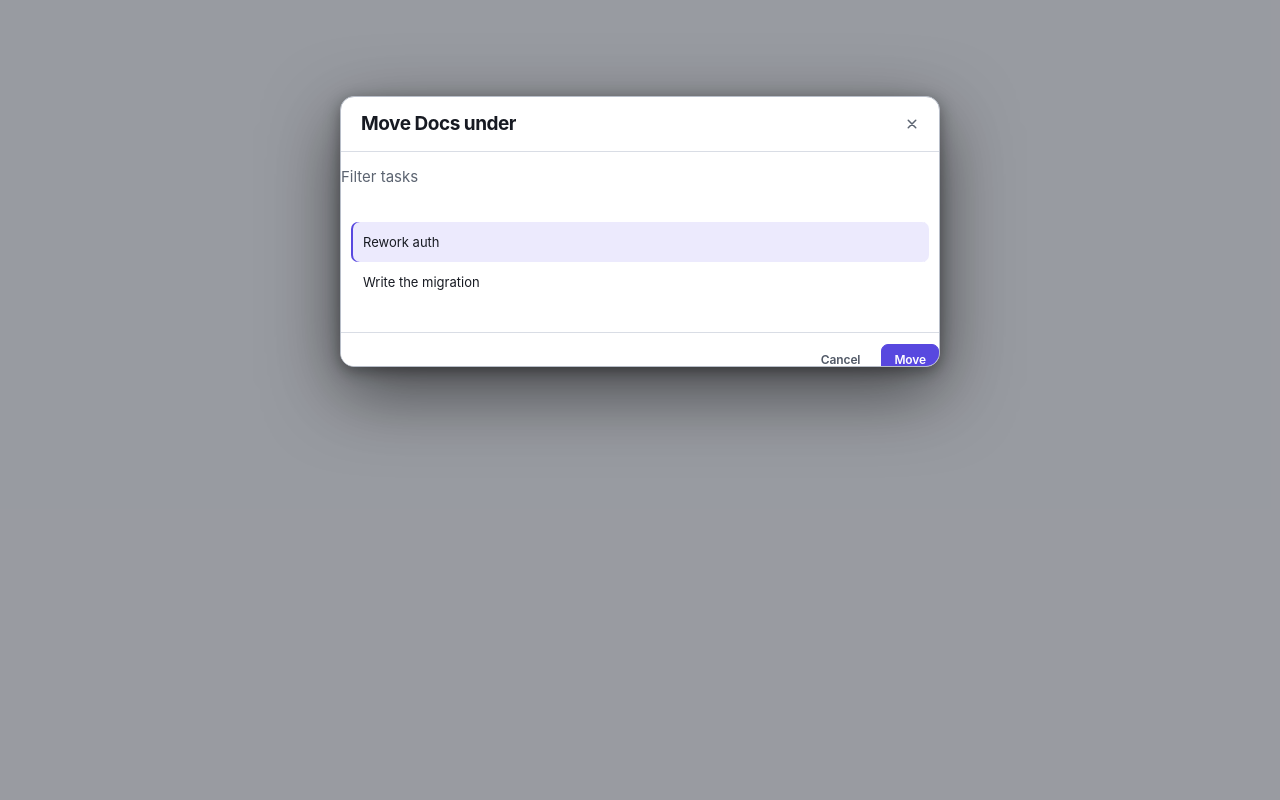
Test: Move Under… › narrows the list as it is typed into
Step 1. Type "migr" into the field labelled "Filter" → (640, 176), box [341,152,939,200]
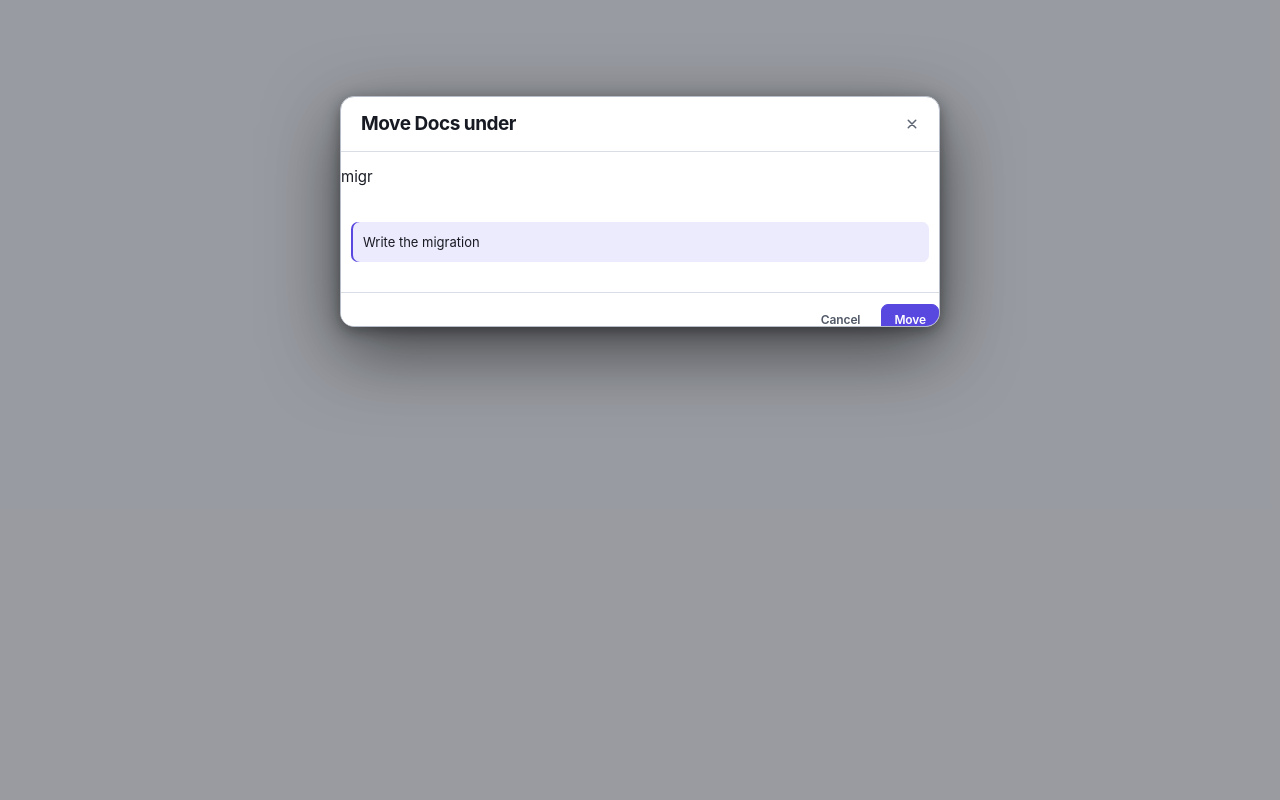
Expected: the options read "Write the migration", in this order, [351,222,929,262]
